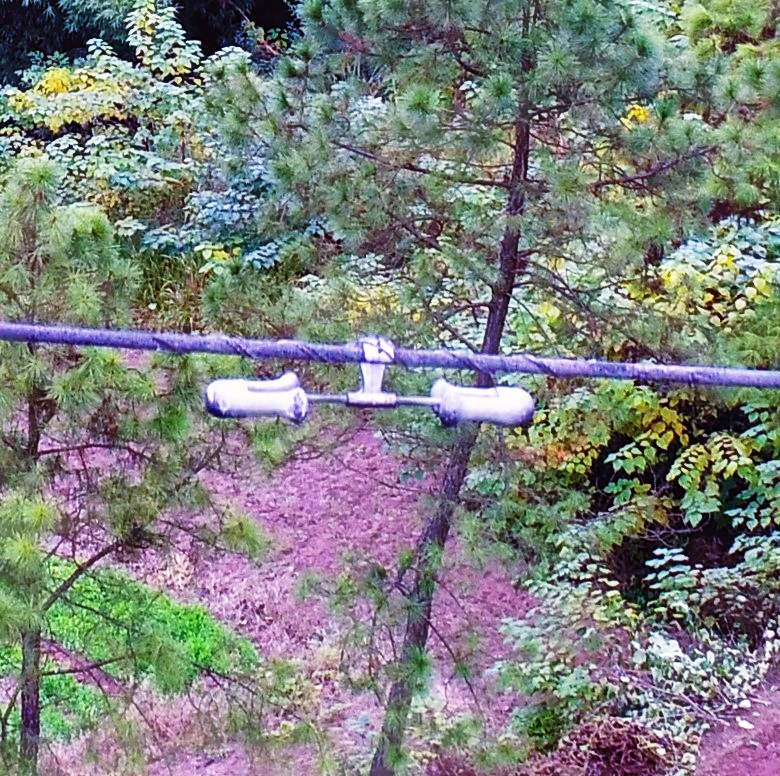Shockproof hammer: (192, 319, 540, 439)
